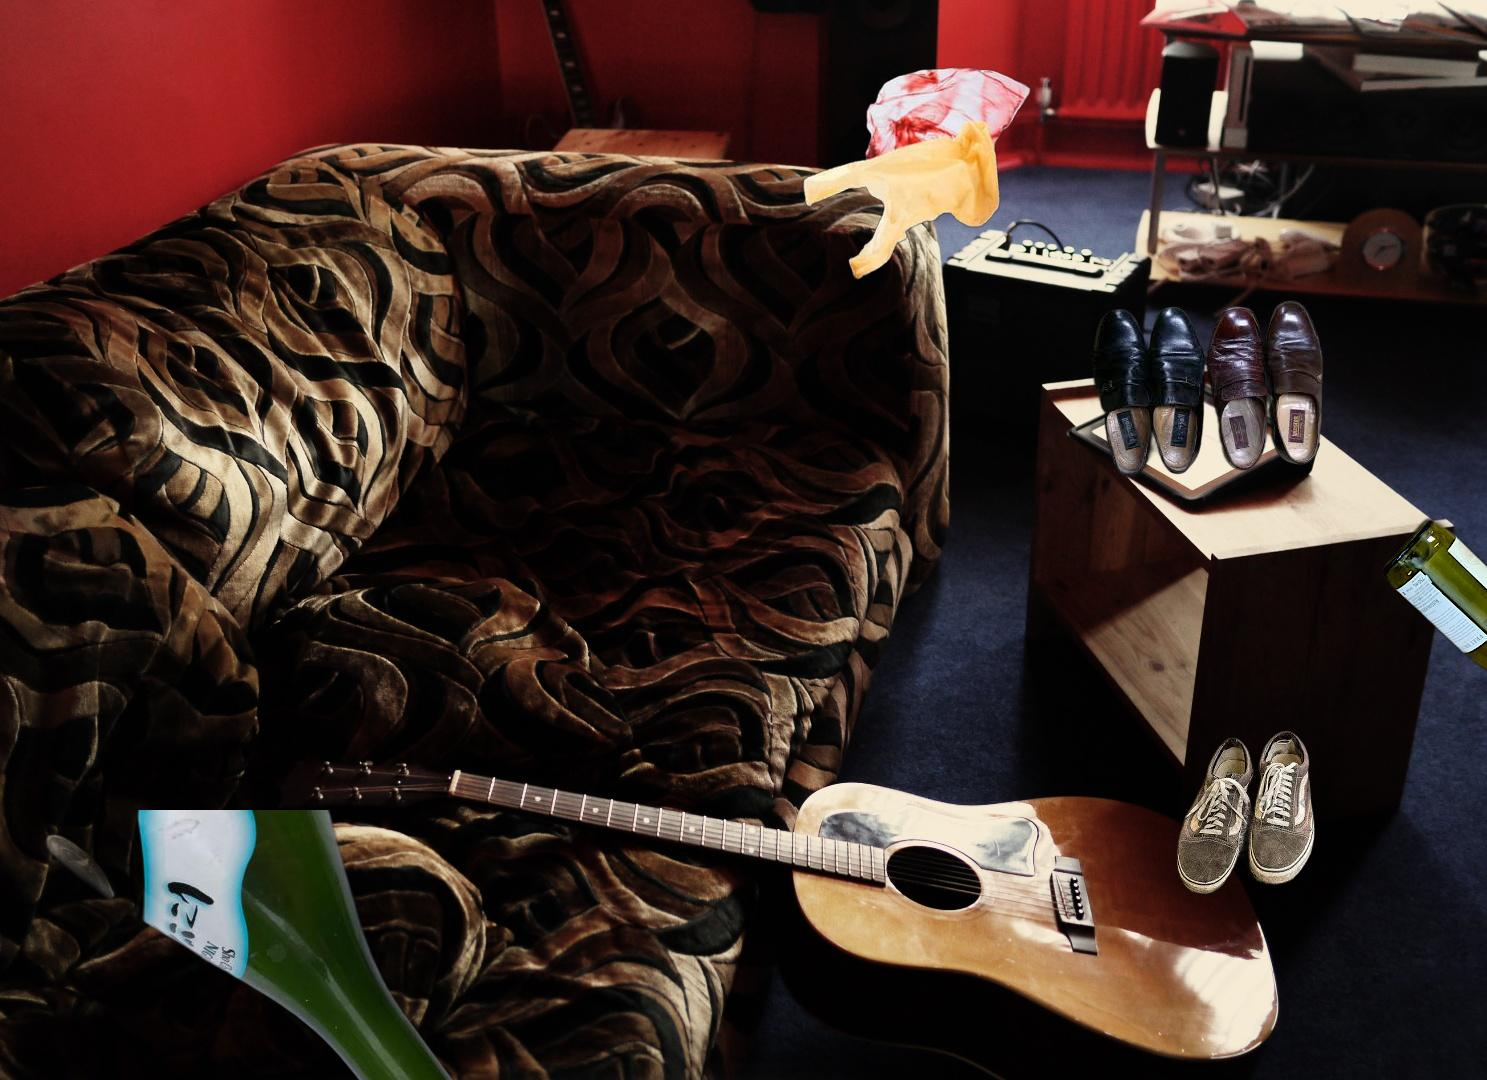glass: (33, 810, 506, 1080), (1378, 513, 1487, 748)
plastic-bag: (800, 64, 1033, 282)
shoes: (1086, 297, 1327, 481), (1174, 728, 1318, 897)
trashbox-cardboard: (195, 1063, 1069, 1080)
